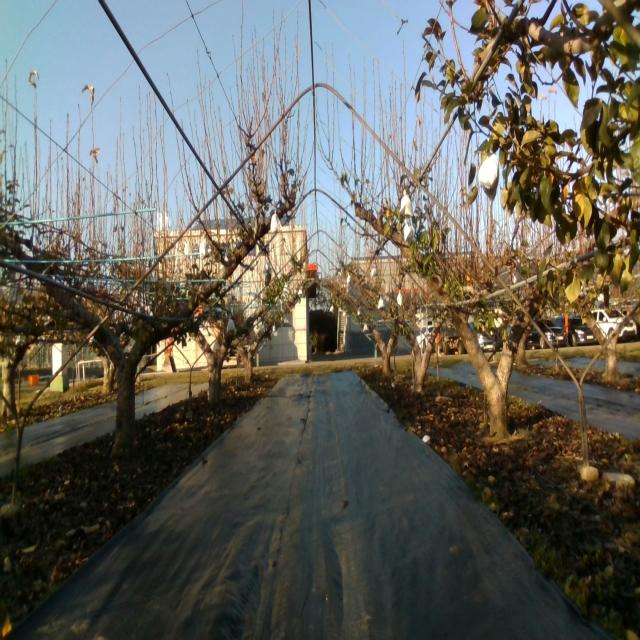pearbags: (477, 152, 499, 198), (399, 187, 412, 217), (198, 236, 212, 260), (270, 209, 282, 233), (403, 219, 413, 244)
